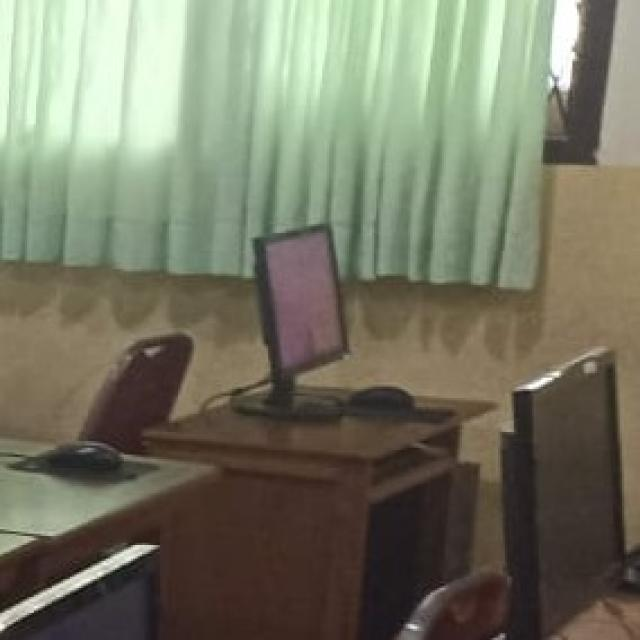offscreen: (514, 347, 622, 637)
onscreen: (254, 226, 348, 395)
